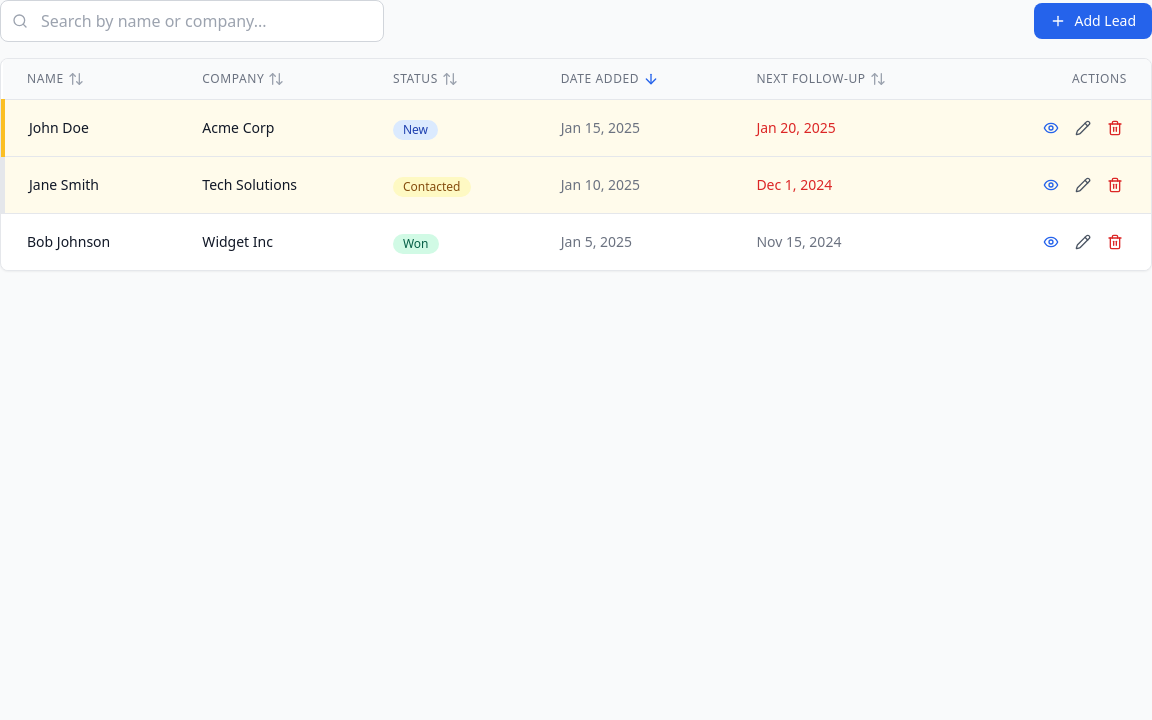
Test: LeadList › Edit From List › clicking Edit button opens LeadForm with initialData set to that lead
This screenshot has width=1152, height=720.
Click the button named "Edit lead" in the row of "John Doe" at (1083,128), box [1071,116,1095,140]
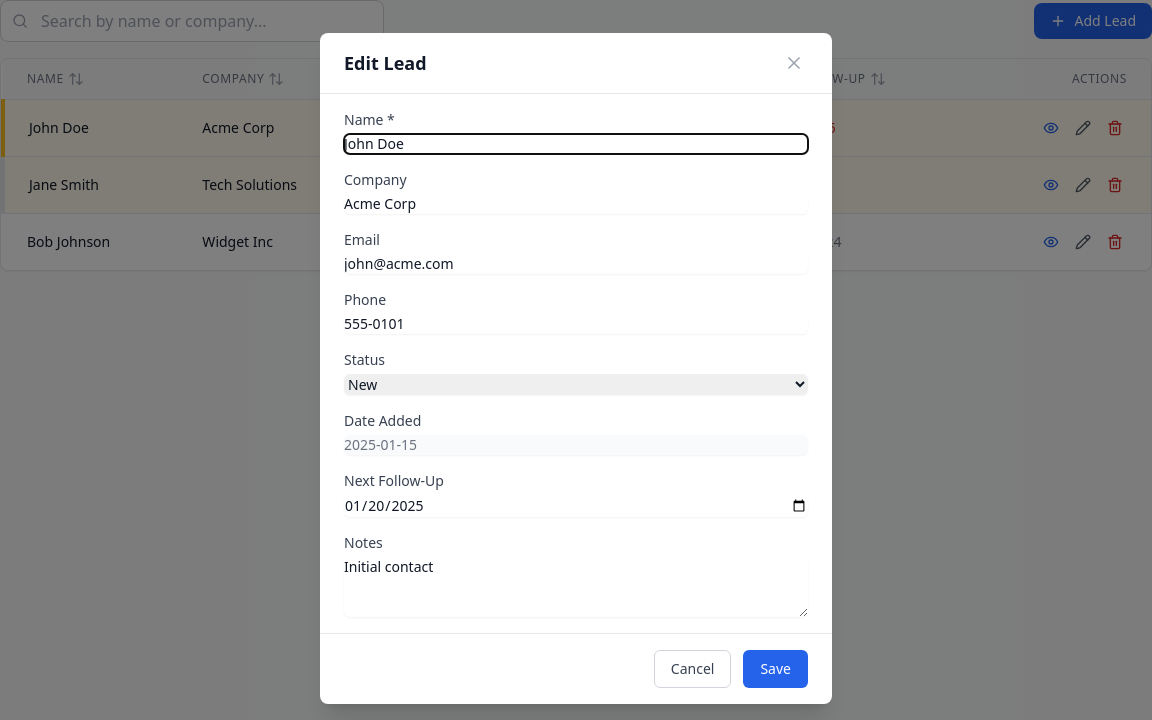
Expected: the heading "Edit Lead" is shown, [344,48,426,76]
Expected: the field labelled "Name *" holds "John Doe", [344,134,808,154]
Expected: the field labelled "Company" holds "Acme Corp", [344,194,808,214]
